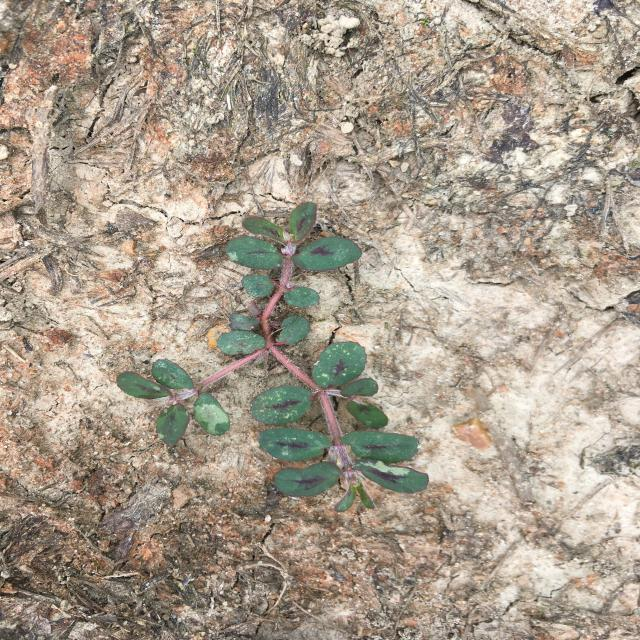SpottedSpurge: (116, 202, 430, 513)
